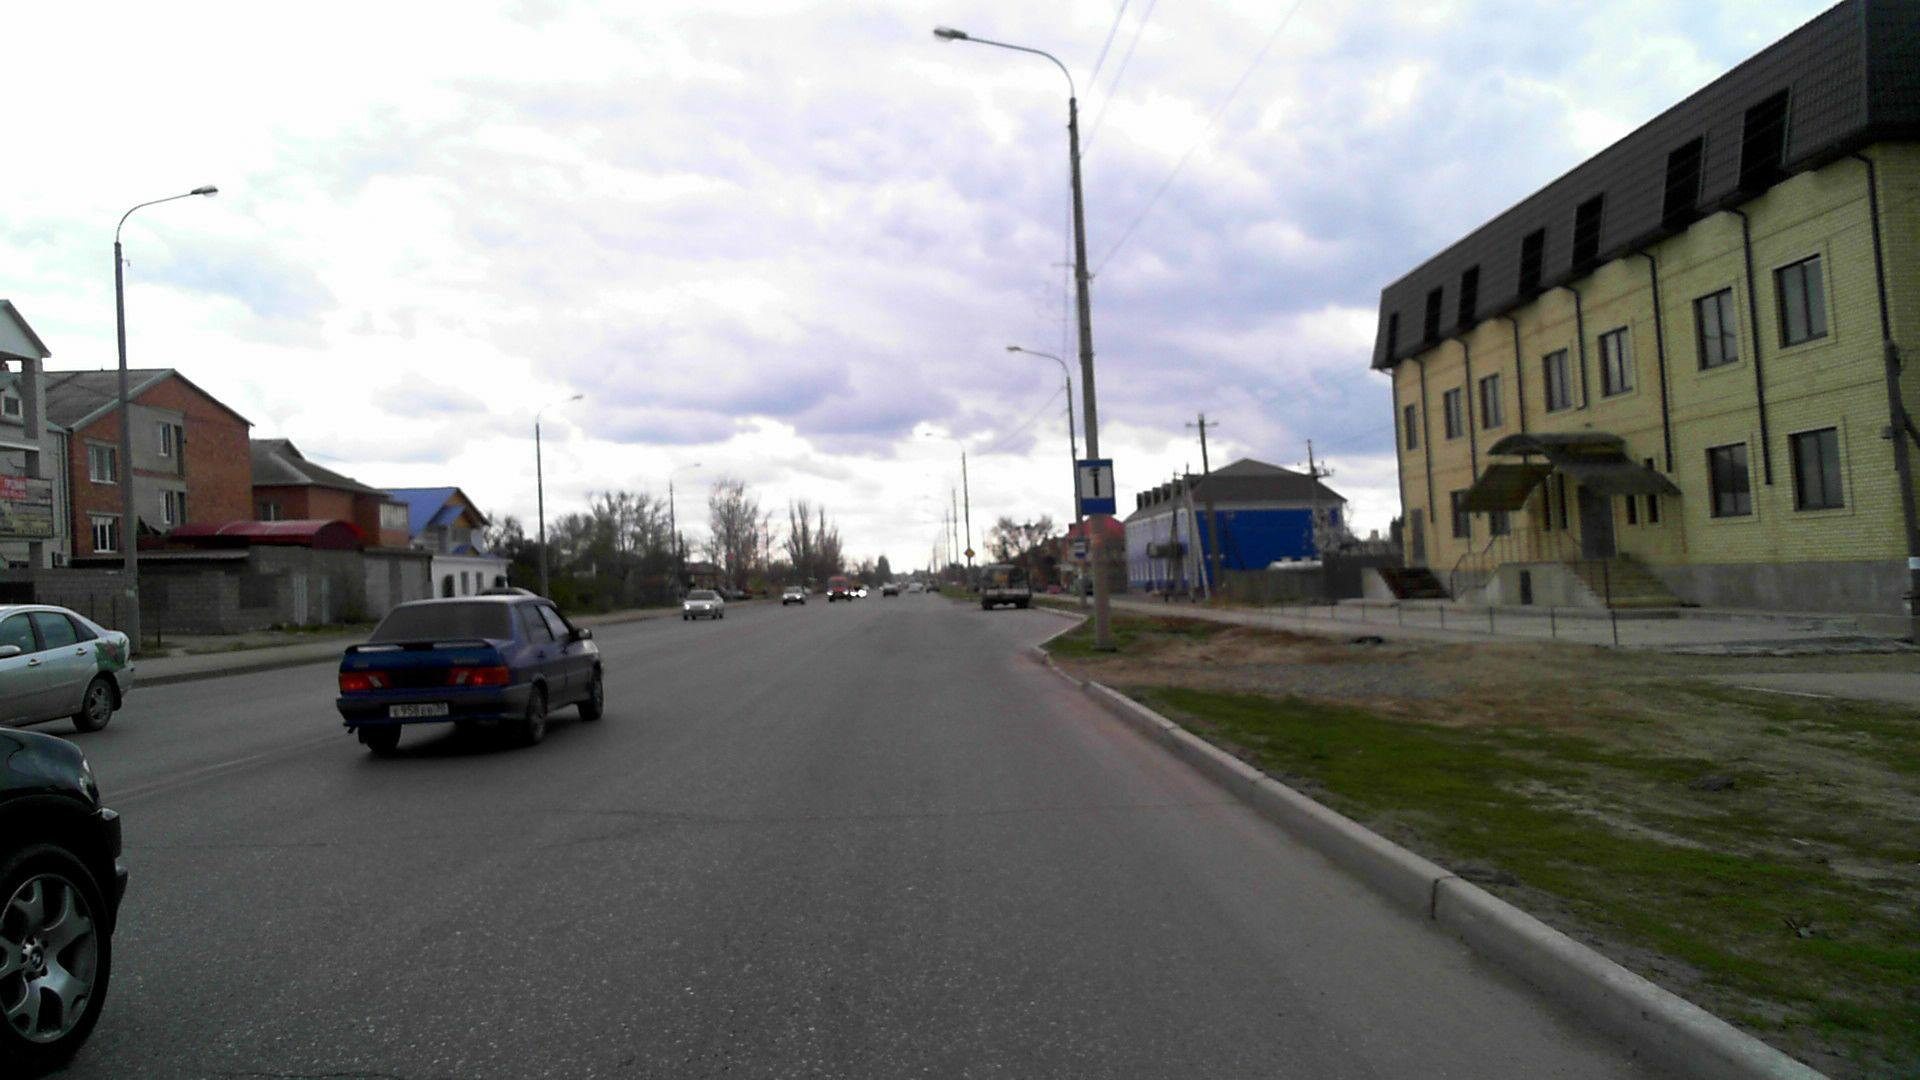7_4: (1077, 459, 1114, 516)
